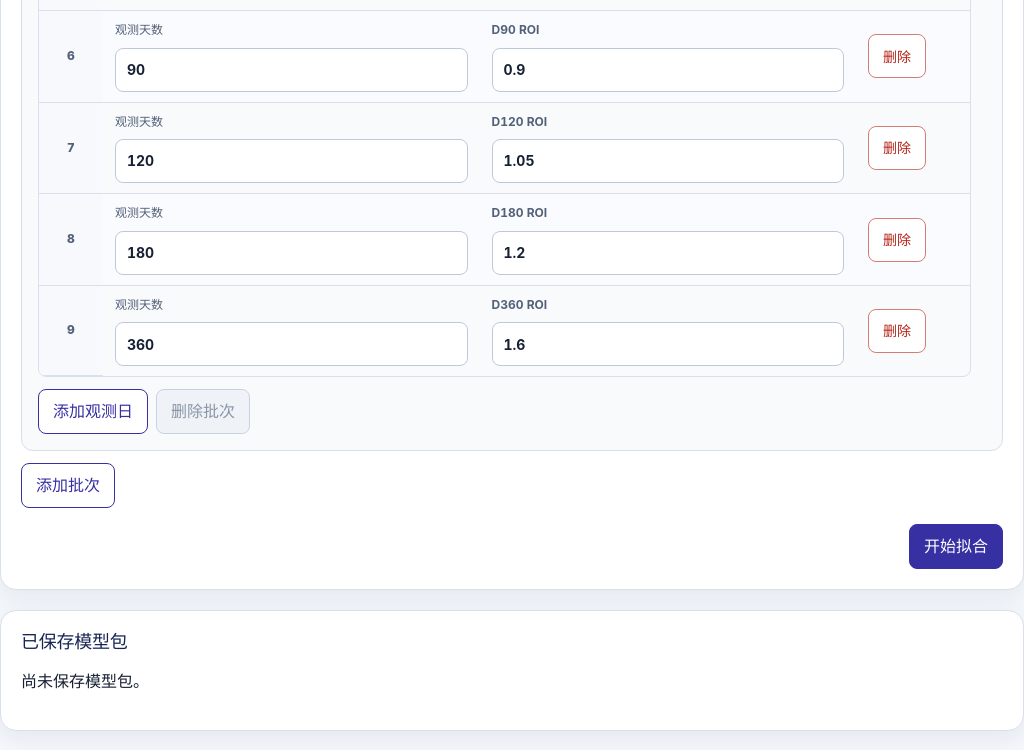
Scenario: fit workspace › keeps the observation error table in each successful cohort fit detail
The width and height of the screenshot is (1024, 750).
(page scrolled)
Click the button "开始拟合".
click(956, 546)  # box [909,524,1003,569]
(page scrolled)
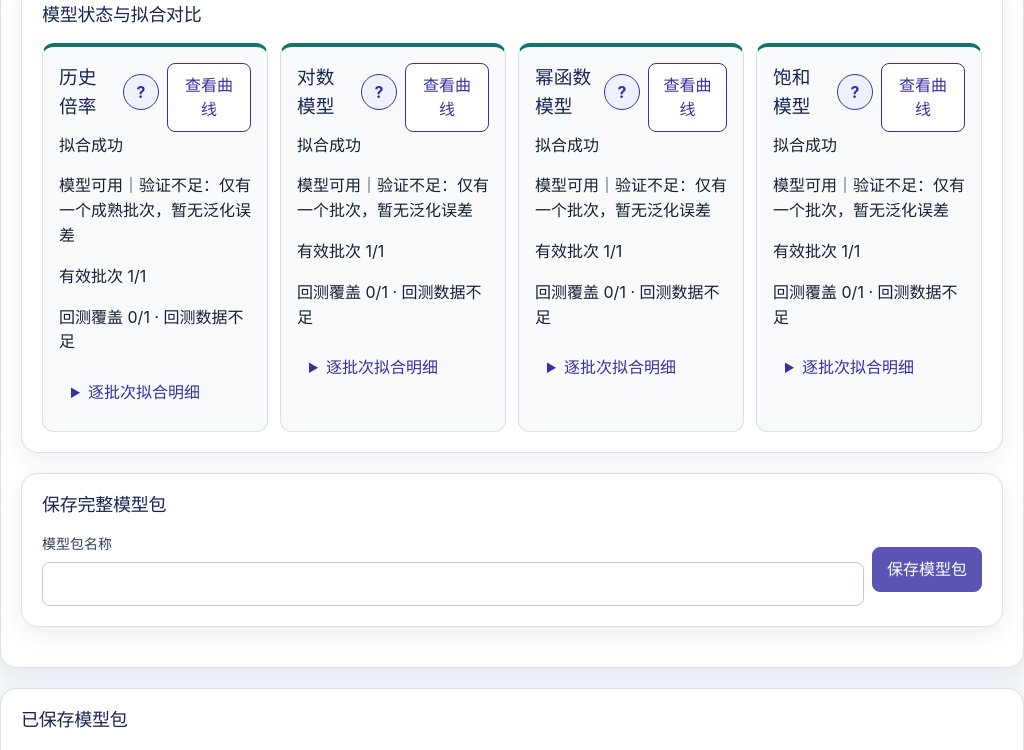
Now the element "对数模型" is shown, box [280,43,506,432]
Click the 1st heading "逐批次拟合明细".
click(382, 367)  # box [326,357,438,377]
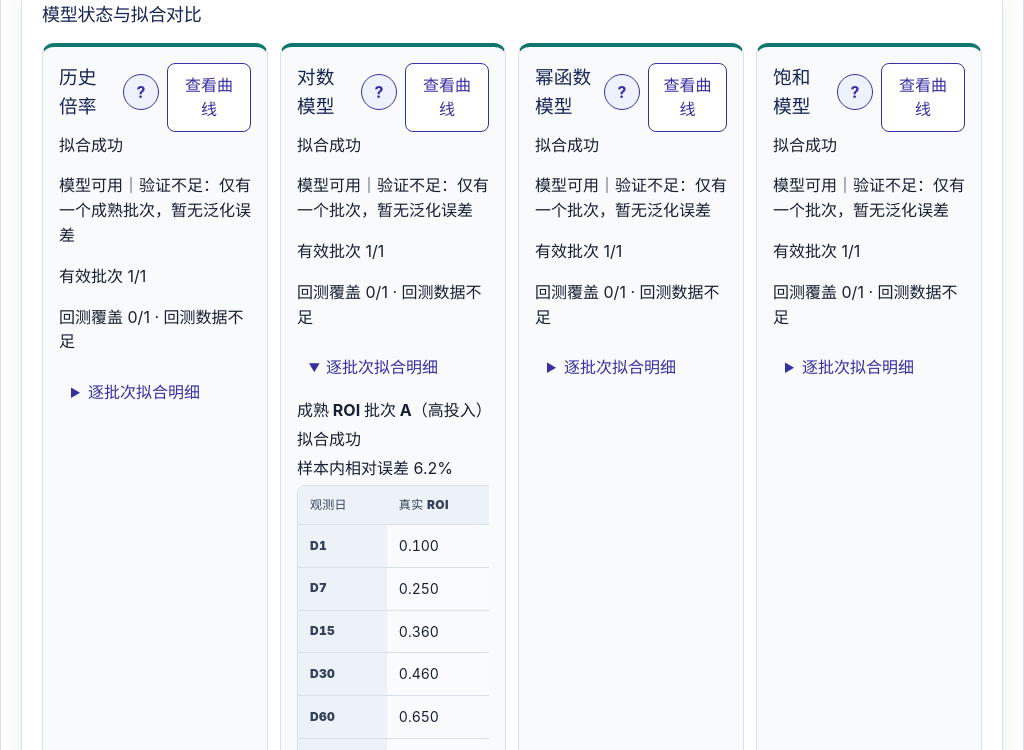
Now the column heading "观测日" is shown, box [298,486,387,525]
Now the column heading "真实 ROI" is shown, box [387,486,489,525]
